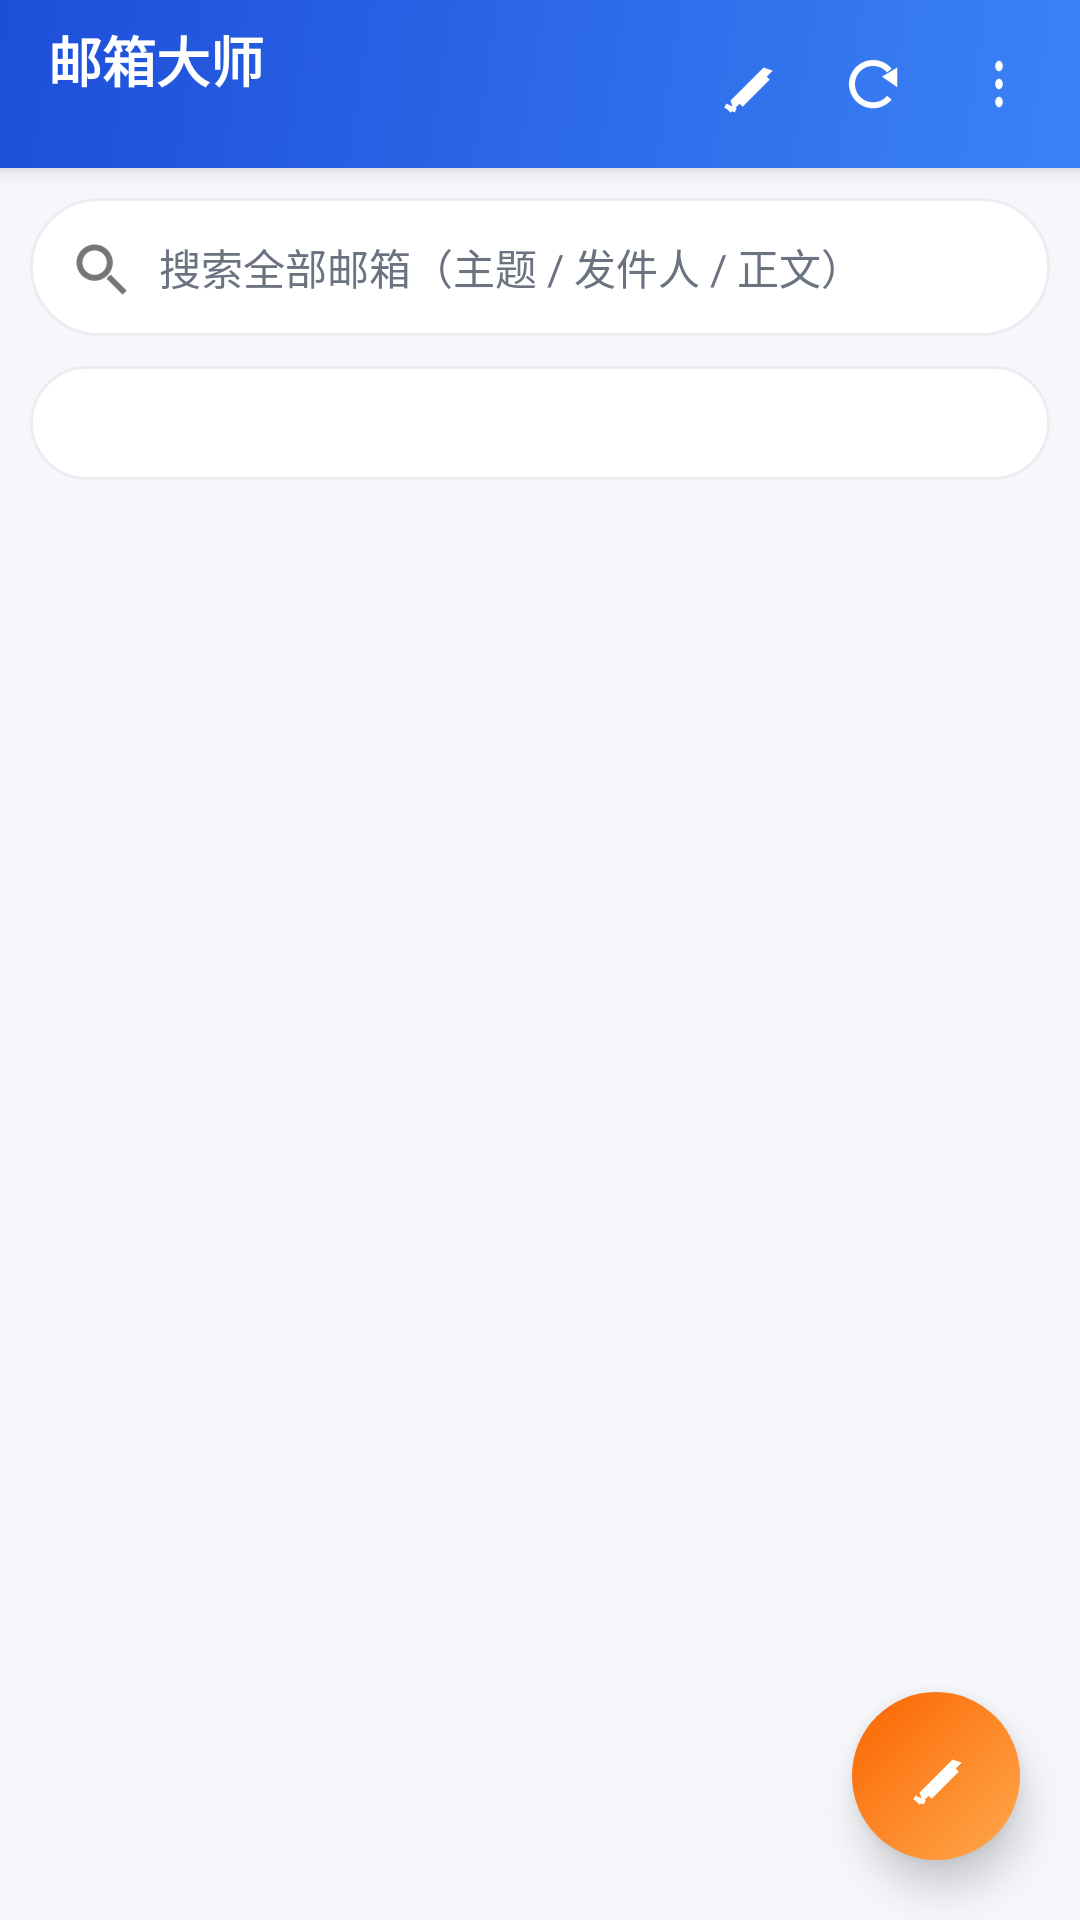

Named icons in this screenshot (1080x1920) and their bounding boxes, (x1, y1, x2, y2):
写邮件: (724, 67, 773, 113), (852, 1692, 1020, 1860)
刷新: (849, 60, 898, 109)
更多: (995, 60, 1003, 108)
